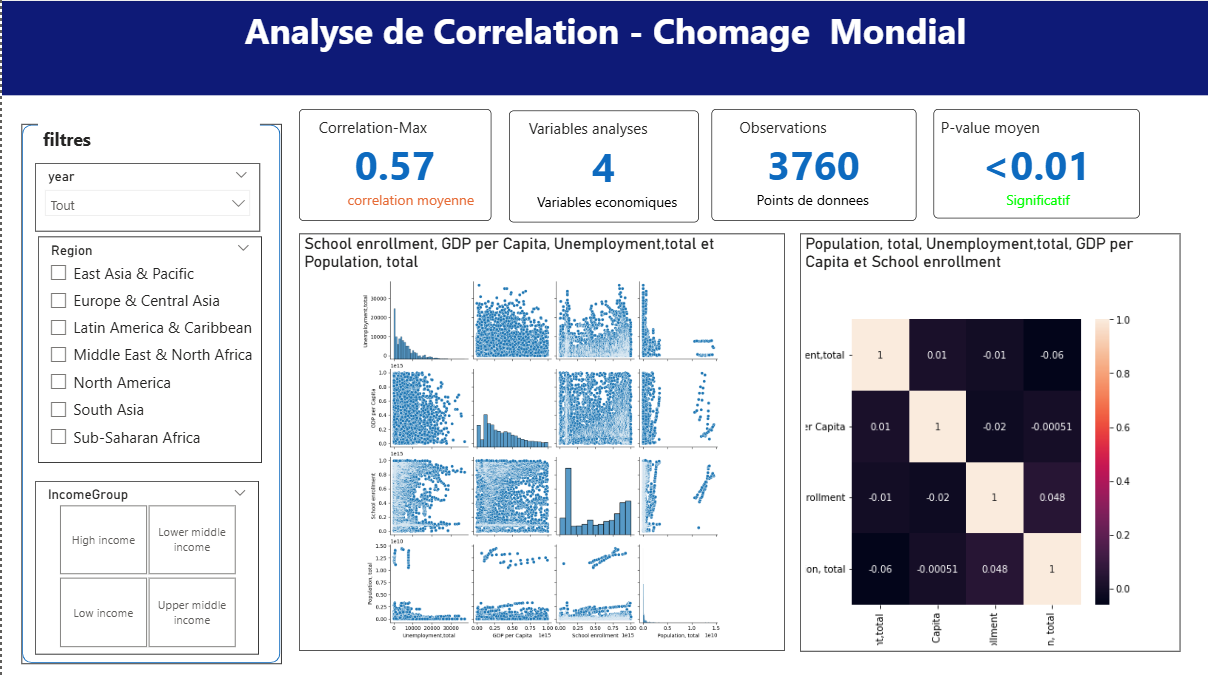

What the dashboard file says about the page in this screenshot:
{"tool":"powerbi","page":{"name":"Page 4","canvas":[1280,720],"ordinal":2},"visuals":[{"type":"pythonVisual","fields":{"Values":["dataset_nettoye.School enrollment","dataset_nettoye.GDP per Capita","dataset_nettoye.Unemployment,total","dataset_nettoye.Population, total"]},"box":[315,250,515,442.5],"z":0},{"type":"pythonVisual","fields":{"Values":["dataset_nettoye.Population, total","dataset_nettoye.Unemployment,total","dataset_nettoye.GDP per Capita","dataset_nettoye.School enrollment"]},"box":[846.7,250,403.3,443.3],"z":1000},{"type":"shape","box":[20,132.9,275.7,572.9],"z":2000},{"type":"textbox","box":[37.5,132.5,235,50],"z":3000},{"type":"slicer","fields":{"Values":["dataset_nettoye.year"]},"box":[35.7,175.7,238.6,72.9],"z":4000},{"type":"slicer","fields":{"Values":["dataset_nettoye.Region"]},"box":[37.5,252.5,237.5,240],"z":5000},{"type":"slicer","fields":{"Values":["dataset_nettoye.IncomeGroup"]},"box":[35.7,511.4,237.1,184.3],"z":6000},{"type":"textbox","box":[0,2.5,1280,100],"z":7000},{"type":"textbox","box":[315.7,117.1,204.3,118.6],"z":8000},{"type":"textbox","box":[537.1,118.6,201.4,118.6],"z":9000},{"type":"textbox","box":[752.9,117.1,217.1,118.6],"z":10000},{"type":"textbox","box":[987.1,117.1,218.6,115.7],"z":11000}]}

Visuals, with their boxes in screenshot pixels (x1, y1, x2, y2), scaled from the page's 1280x720 canvas onto the 1208x676 screenshot:
pythonVisual - dataset_nettoye.School enrollment x dataset_nettoye.GDP per Capita: x1=297, y1=235, x2=783, y2=650
pythonVisual - dataset_nettoye.Population, total x dataset_nettoye.Unemployment,total: x1=799, y1=235, x2=1180, y2=651
shape: x1=19, y1=125, x2=279, y2=663
textbox: x1=35, y1=124, x2=257, y2=171
slicer - dataset_nettoye.year: x1=34, y1=165, x2=259, y2=233
slicer - dataset_nettoye.Region: x1=35, y1=237, x2=260, y2=462
slicer - dataset_nettoye.IncomeGroup: x1=34, y1=480, x2=257, y2=653
textbox: x1=0, y1=2, x2=1207, y2=96
textbox: x1=298, y1=110, x2=491, y2=221
textbox: x1=507, y1=111, x2=697, y2=223
textbox: x1=711, y1=110, x2=915, y2=221
textbox: x1=932, y1=110, x2=1138, y2=219
